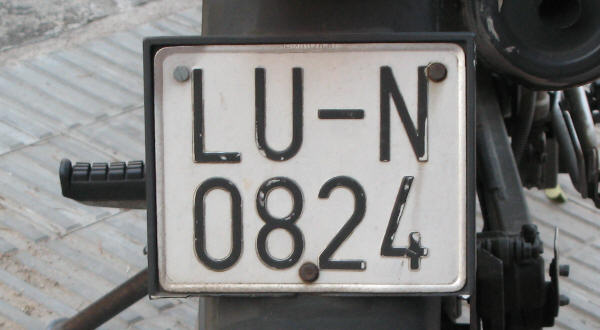license_plate: (154, 41, 468, 291)
